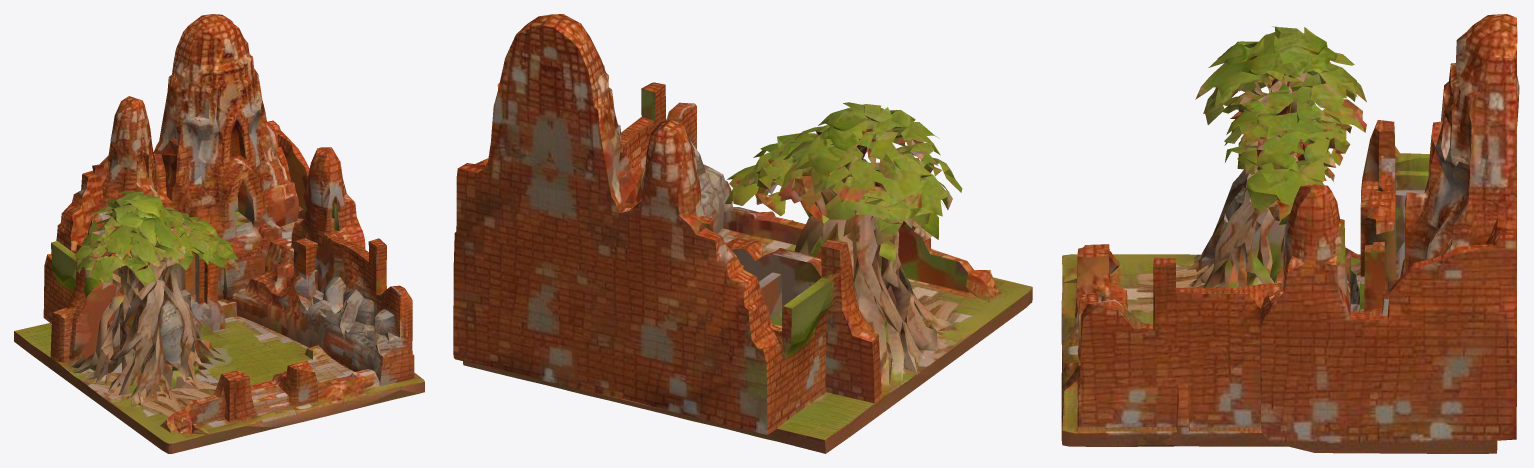
File: wat-mahathat-ayutthaya.glb
3 views of the same model, side by side, from view 1: azimuth 30°, elevation 25°; view 2: azimuth 150°, elevation 25°; view 3: azimuth 270°, elevation 25° (orthographic). The views are drawn at different scales.
Parts seen in each view (by area): view 1: logan-textured.obj; view 2: logan-textured.obj; view 3: logan-textured.obj.
Part boxes in pixels (x1=…): logan-textured.obj: x1=14, y1=14, x2=424, y2=453; logan-textured.obj: x1=453, y1=14, x2=1032, y2=453; logan-textured.obj: x1=1061, y1=14, x2=1519, y2=453.
Bounding box in the file's own units: 1 × 0.9359 × 0.9982.
Materials: 1 (1 with a texture image).
